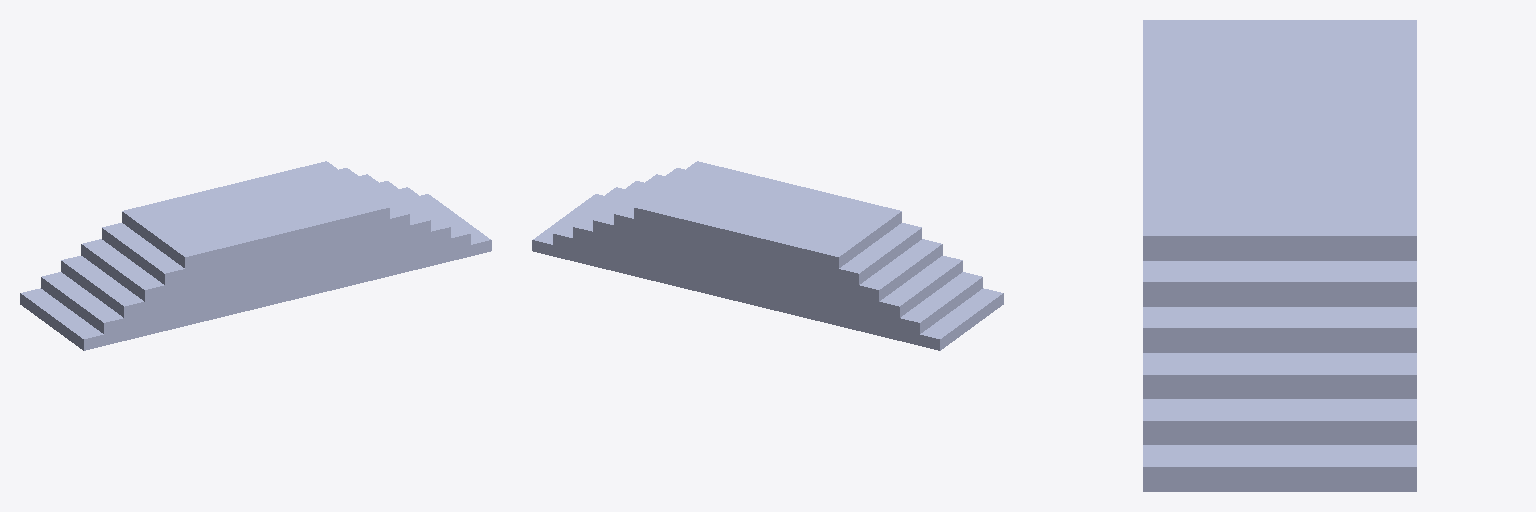
robot.urdf — step_type2.SLDPRT:
<robot
  name="step_type2.SLDPRT">
  <link
    name="STEP_TYPE2">
    <inertial>
      <origin
        xyz="1.86 -0.5 0.26139"
        rpy="0 0 0" />
      <mass
        value="1677" />
      <inertia
        ixx="187.559962731067"
        ixy="-1.43295098009592E-15"
        ixz="3.13506582329139E-13"
        iyy="1306.94348773107"
        iyz="3.35896430364716E-15"
        izz="1398.883525" />
    </inertial>
    <visual>
      <origin
        xyz="0 0 0"
        rpy="1.5707963267949 0 0" />
      <geometry>
        <mesh
          filename="package://STEP_TYPE2/meshes/STEP_TYPE2.STL" />
      </geometry>
      <material
        name="">
        <color
          rgba="0.79216 0.81961 0.93333 1" />
      </material>
    </visual>
    <collision>
      <origin
        xyz="0 0 0"
        rpy="1.5707963267949 0 0" />
      <geometry>
        <mesh
          filename="package://STEP_TYPE2/meshes/STEP_TYPE2.STL" />
      </geometry>
    </collision>
  </link>
</robot>

--- What the picture shows (computed from the rendered views, not written in the file) ---
Views: 3 orthographic renders of the robot side by side, from view 1: azimuth 30°, elevation 25°; view 2: azimuth 150°, elevation 25°; view 3: azimuth 270°, elevation 25°.
Model step_type2.SLDPRT with 1 links and 0 joints (none), rooted at STEP_TYPE2, posed all joints at 0.
Links seen in each view (by area): view 1: STEP_TYPE2; view 2: STEP_TYPE2; view 3: STEP_TYPE2.
Link boxes in pixels (<box>): STEP_TYPE2: <box>20,161,491,350</box>; STEP_TYPE2: <box>532,161,1003,350</box>; STEP_TYPE2: <box>1143,20,1416,491</box>.
Size in the robot's own frame: 3.72 by 1 by 0.6 metres.
1 mesh visuals loaded from 1 distinct referenced files (1 binary STL).